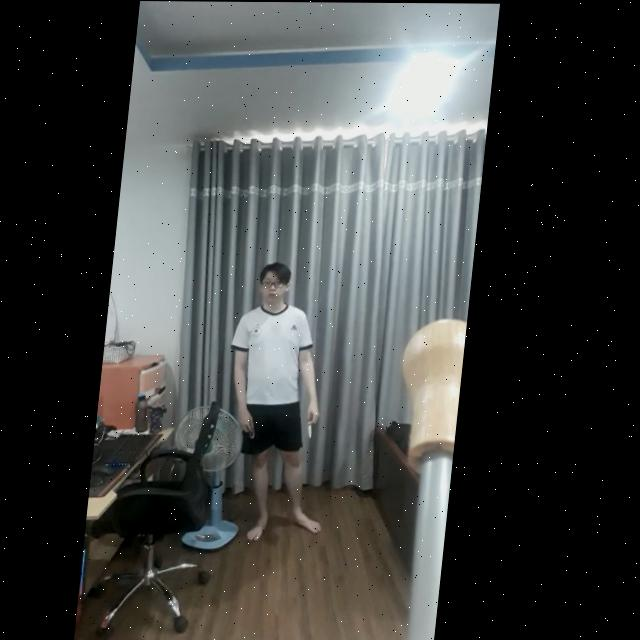cigarette: (317, 423, 323, 439)
